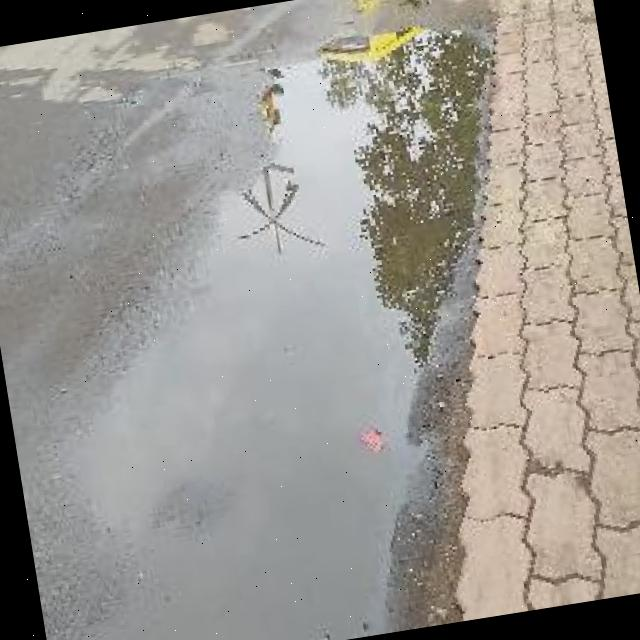stagnation: (33, 23, 487, 640)
